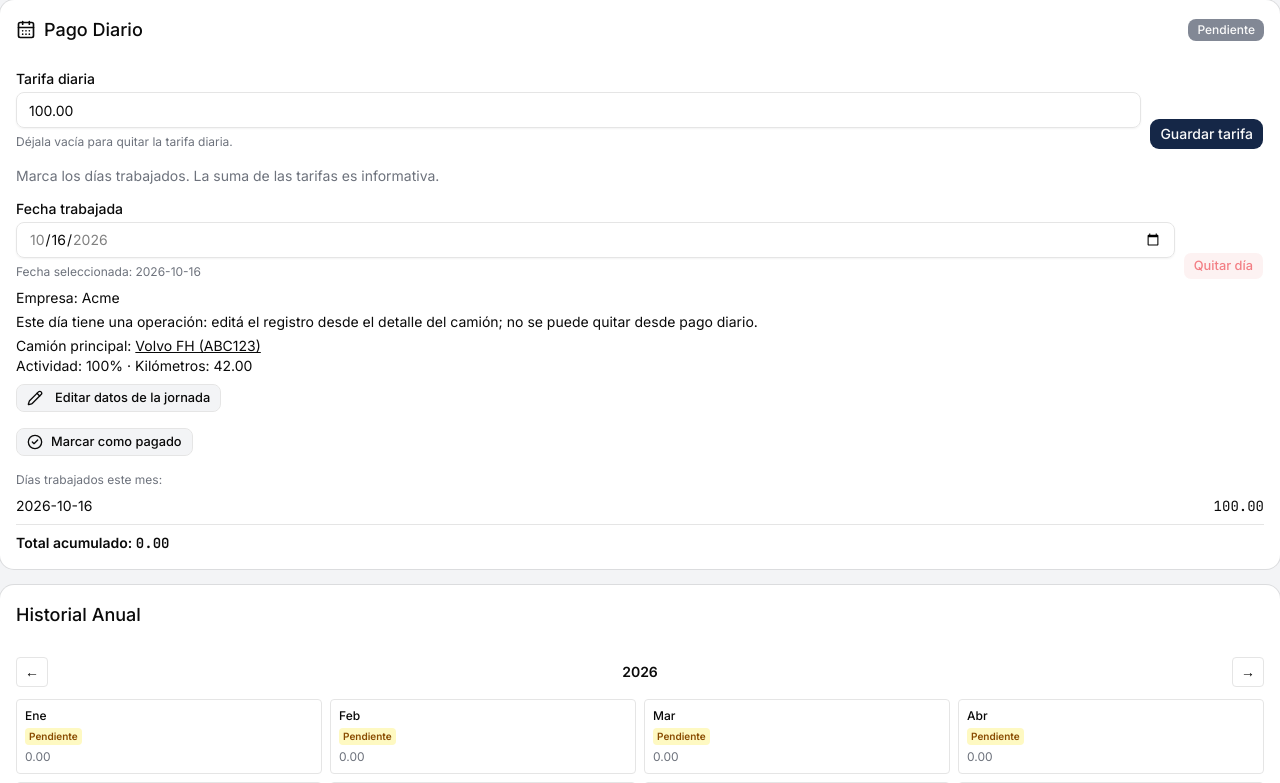
it: DailyPayPanel › opens a prefilled operational-day editor directly from a worker record
Expected: the text "Acme" is shown, [82,289,120,306]
What coordinates should you click on to do the following:
click the button "Editar datos de la jornada"
I would click on:
 (119, 398)
Its box is [16,384,221,412].
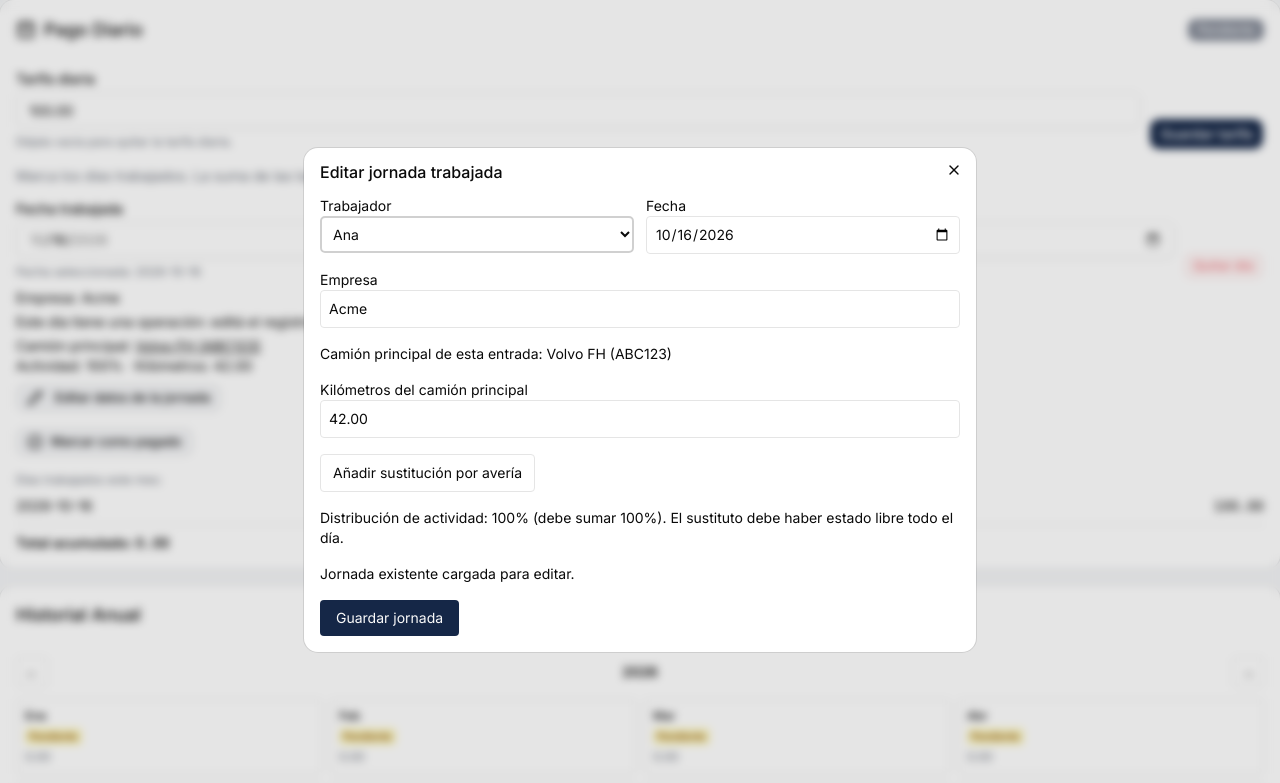
Result: the dialog is shown at [304,148,976,652]
Result: the dropdown labelled "Trabajador" shows "Ana" at [320,216,634,253]
Result: the field labelled "Empresa" holds "Acme" at [320,290,960,328]
